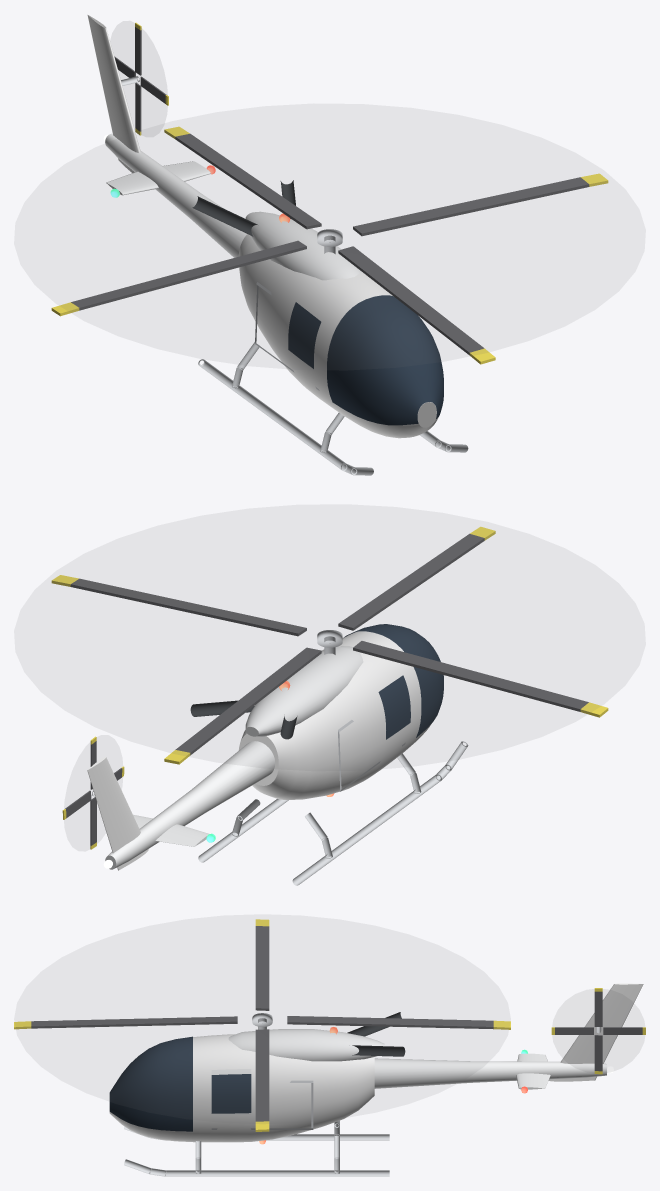
3 renders of one model, top to bottom at view 1: azimuth 30°, elevation 25°; view 2: azimuth 150°, elevation 25°; view 3: azimuth 270°, elevation 25°, orthographic. The views are drawn at different scales.
Visible parts, largest first — view 1: airframe, rotor, tail; view 2: airframe, rotor, tail; view 3: airframe, rotor, tail.
Part boxes in pixels (x1,y1,x2,y2): airframe: (87,14,468,475); rotor: (51,126,608,364); tail: (114,22,168,135); airframe: (87,624,468,885); rotor: (51,526,608,764); tail: (62,736,124,849); airframe: (109,983,643,1176); rotor: (14,919,510,1131); tail: (551,988,645,1074).
Bounding box in the file's own units: 11 × 4.36 × 13.99.
